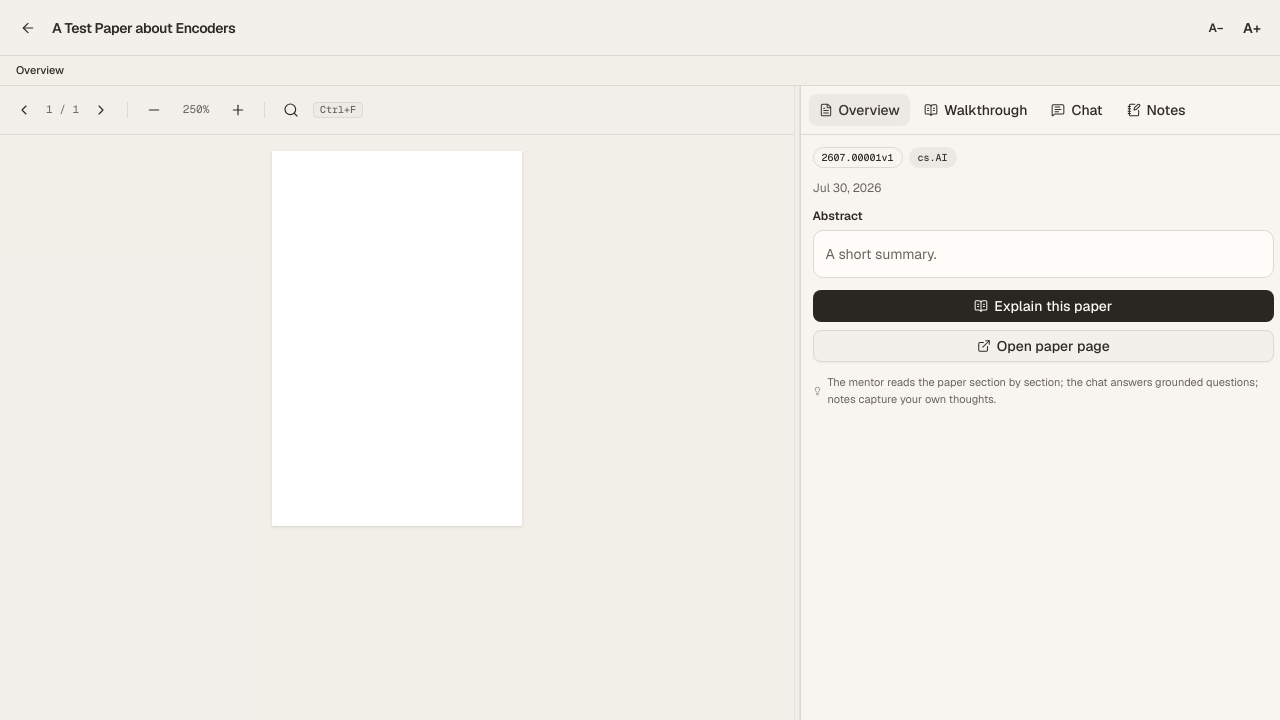
Test: reader open boundary › shows the extraction error card and retries
This screenshot has width=1280, height=720.
Check: the text "1 / 1" is shown, box [46,101,79,118]
Click the tab "Walkthrough": x=976, y=110 [914,94,1037,126]
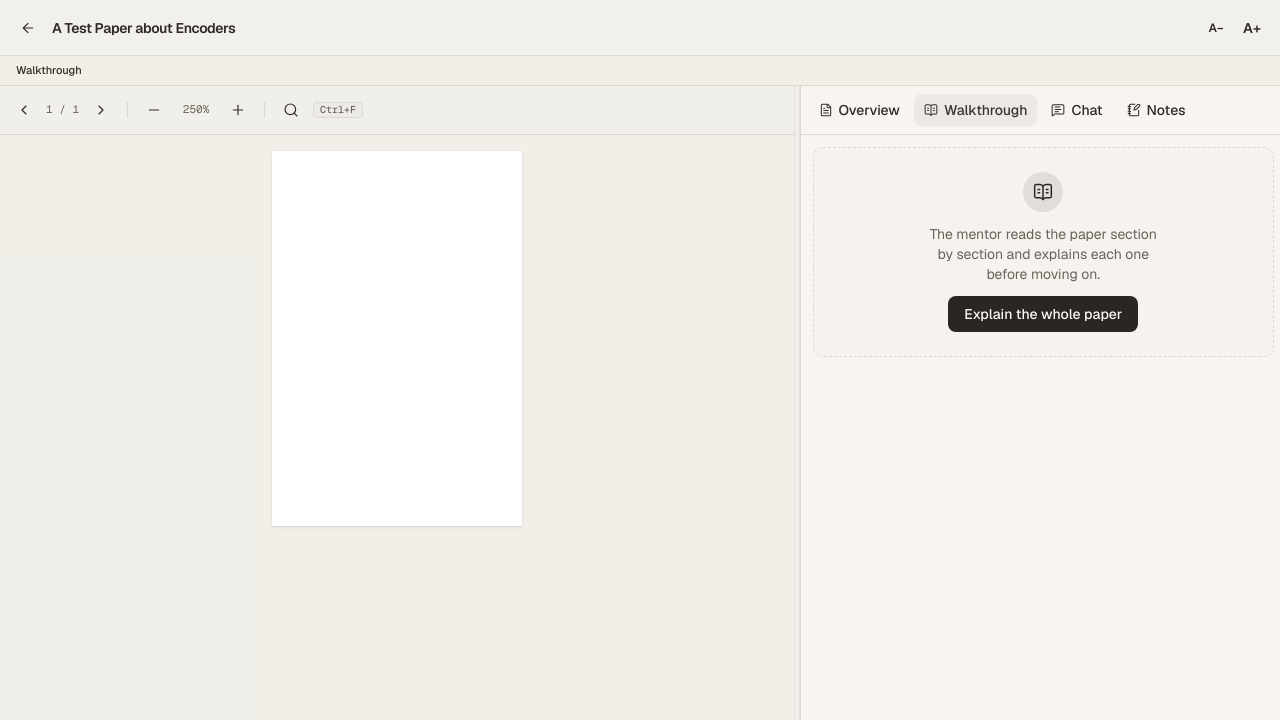
Click the button "Explain the whole paper": x=1043, y=314 [948,296,1138,332]
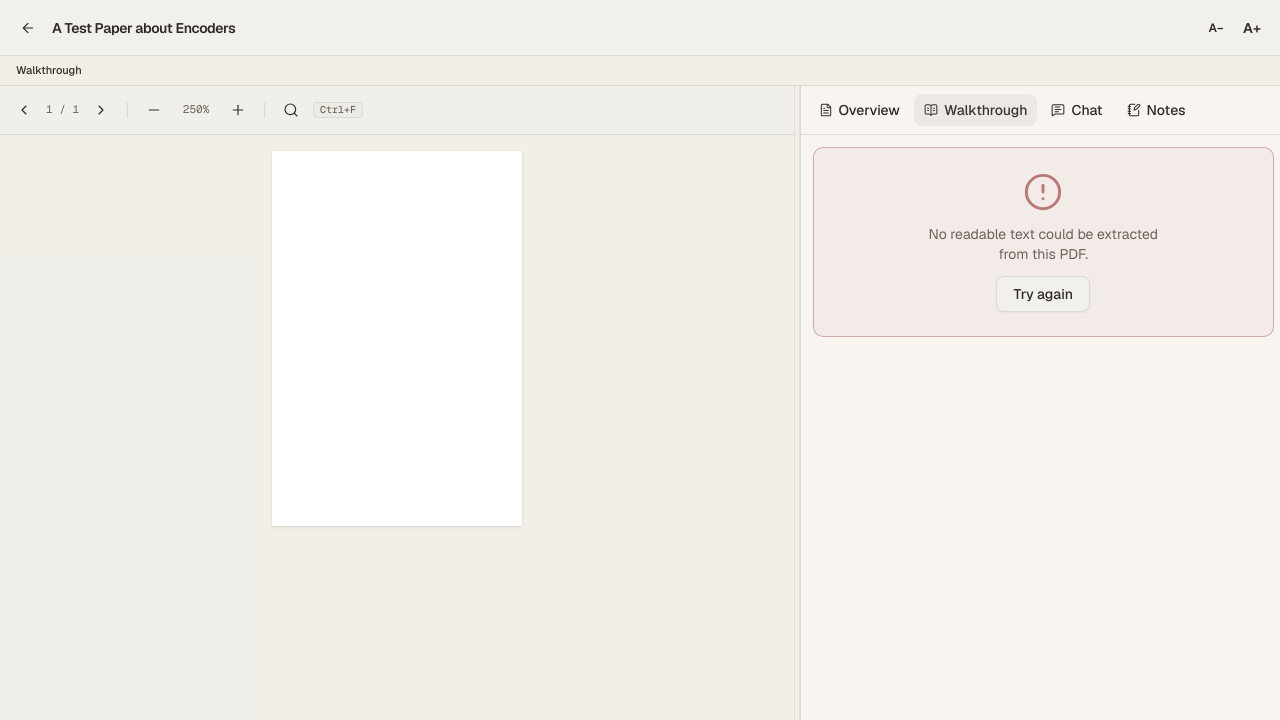
Check: the text "No readable text could be extracted from this PDF." is shown, box [923,224,1163,264]
Check: the button "Try again" is shown, box [996,276,1090,312]
